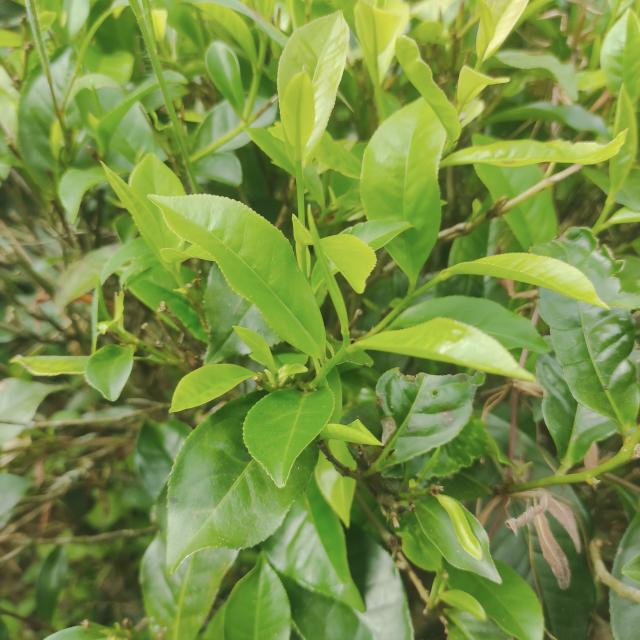unopened_leaf: (296, 192, 360, 352), (91, 270, 135, 344)
